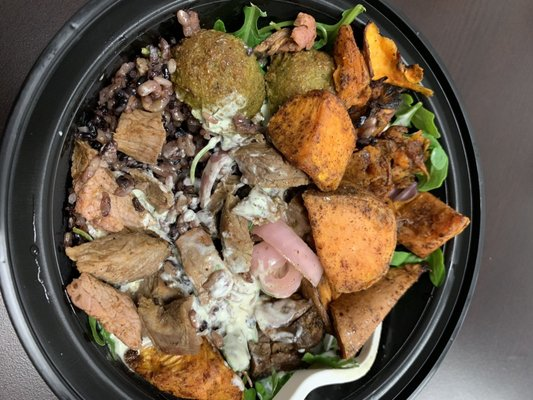sushi: (19, 0, 486, 399)
